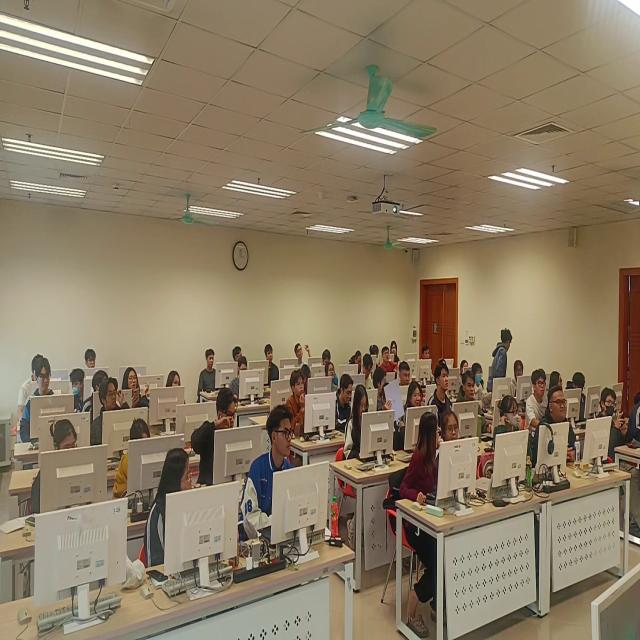raise_head: (244, 413, 316, 546), (200, 390, 250, 475), (24, 363, 71, 442), (543, 390, 587, 472), (489, 395, 533, 471), (285, 374, 328, 445), (92, 382, 130, 442), (458, 368, 488, 430), (430, 362, 457, 426), (526, 367, 554, 424), (165, 369, 192, 421), (402, 382, 428, 423), (512, 356, 535, 400), (263, 344, 285, 385), (380, 347, 400, 382), (293, 340, 316, 370), (417, 341, 437, 375), (82, 343, 102, 375), (325, 363, 343, 392)
stand: (487, 318, 514, 407)
using_computer: (36, 415, 91, 509), (118, 420, 166, 503), (347, 388, 393, 467), (198, 348, 235, 393), (229, 361, 266, 406), (569, 375, 600, 416), (336, 373, 359, 425), (361, 354, 377, 394)
using_phone: (593, 388, 635, 489), (124, 364, 152, 423)
